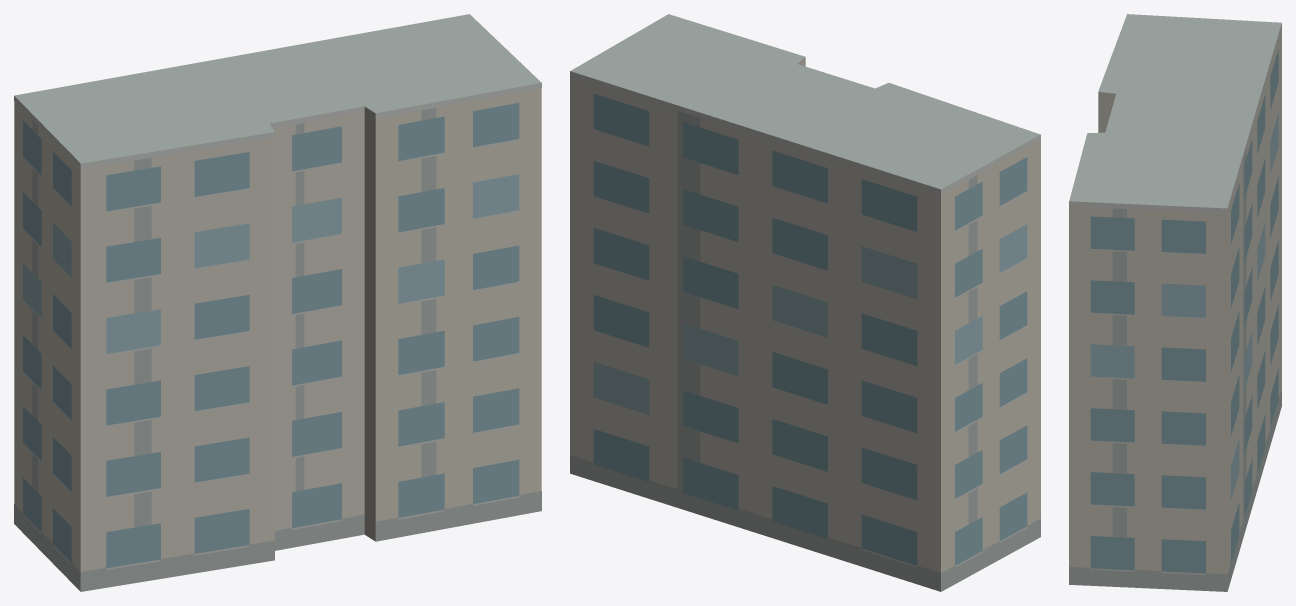
File: survey-upis-32566589.glb
3 renders of one model, left to right at view 1: azimuth 30°, elevation 25°; view 2: azimuth 150°, elevation 25°; view 3: azimuth 270°, elevation 25°, orthographic. The views are drawn at different scales.
Visible parts, largest first — view 1: survey-upis-32566589.tmp; view 2: survey-upis-32566589.tmp; view 3: survey-upis-32566589.tmp.
Boxes of the visible parts, bbox=[...] form: survey-upis-32566589.tmp: bbox=[14, 14, 541, 591]; survey-upis-32566589.tmp: bbox=[570, 14, 1040, 591]; survey-upis-32566589.tmp: bbox=[1069, 14, 1281, 591].
Size of the model in its own units: 19.9 by 18.3 by 9.21.
